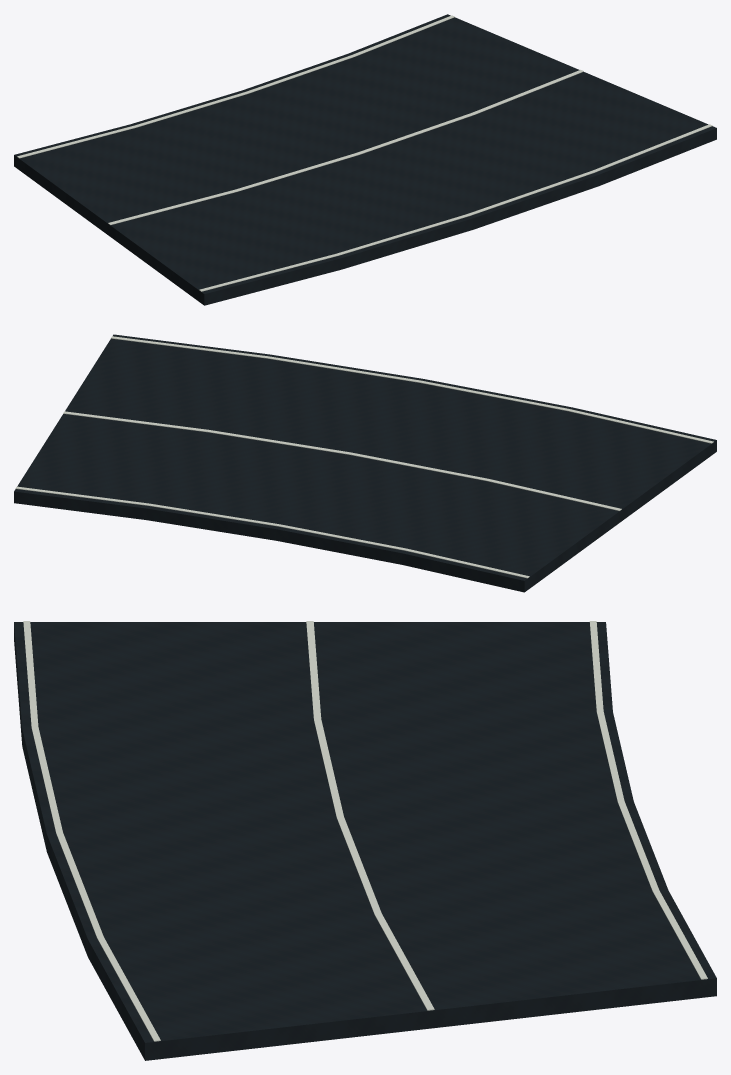
The model's file is Transit_Road_2L_Curve15_R36.glb.
3 views of the same model, one above another, from view 1: azimuth 30°, elevation 25°; view 2: azimuth 150°, elevation 25°; view 3: azimuth 270°, elevation 25° (orthographic). The views are drawn at different scales.
Parts seen in each view (by area): view 1: Transit_Road_2L_Curve15_R36_Surface, Transit_Road_2L_Curve15_R36_MarkEdge-1, Transit_Road_2L_Curve15_R36_MarkLane1, Transit_Road_2L_Curve15_R36_MarkEdge+1; view 2: Transit_Road_2L_Curve15_R36_Surface, Transit_Road_2L_Curve15_R36_MarkEdge-1, Transit_Road_2L_Curve15_R36_MarkLane1, Transit_Road_2L_Curve15_R36_MarkEdge+1; view 3: Transit_Road_2L_Curve15_R36_Surface, Transit_Road_2L_Curve15_R36_MarkEdge-1, Transit_Road_2L_Curve15_R36_MarkLane1, Transit_Road_2L_Curve15_R36_MarkEdge+1.
Part boxes in pixels (<box>): Transit_Road_2L_Curve15_R36_Surface: <box>14,14,716,305</box>; Transit_Road_2L_Curve15_R36_MarkEdge-1: <box>199,124,712,291</box>; Transit_Road_2L_Curve15_R36_MarkLane1: <box>108,69,583,224</box>; Transit_Road_2L_Curve15_R36_MarkEdge+1: <box>17,15,454,158</box>; Transit_Road_2L_Curve15_R36_Surface: <box>14,334,716,592</box>; Transit_Road_2L_Curve15_R36_MarkEdge-1: <box>111,336,713,443</box>; Transit_Road_2L_Curve15_R36_MarkLane1: <box>63,411,621,510</box>; Transit_Road_2L_Curve15_R36_MarkEdge+1: <box>15,486,529,578</box>; Transit_Road_2L_Curve15_R36_Surface: <box>14,622,716,1060</box>; Transit_Road_2L_Curve15_R36_MarkEdge-1: <box>23,621,160,1041</box>; Transit_Road_2L_Curve15_R36_MarkLane1: <box>306,621,434,1010</box>; Transit_Road_2L_Curve15_R36_MarkEdge+1: <box>589,621,707,979</box>.
Bounding box in the file's own units: 10.09 × 0.212 × 7.12.
Materials: 2 (1 with a texture image).
